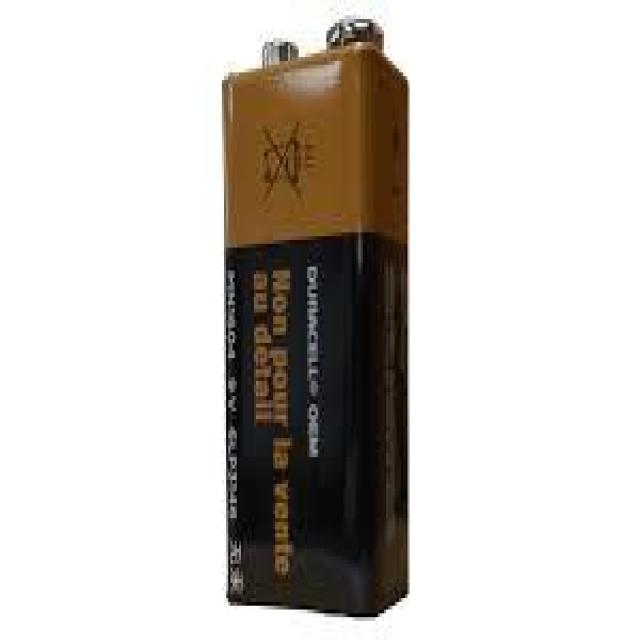9V: (210, 6, 434, 626)
